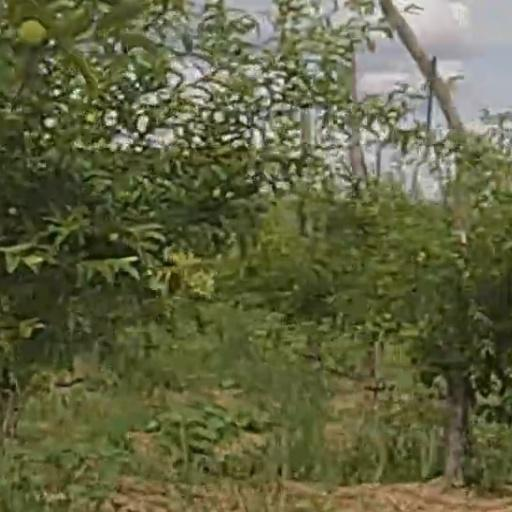acerola_verde: (18, 20, 47, 44)
